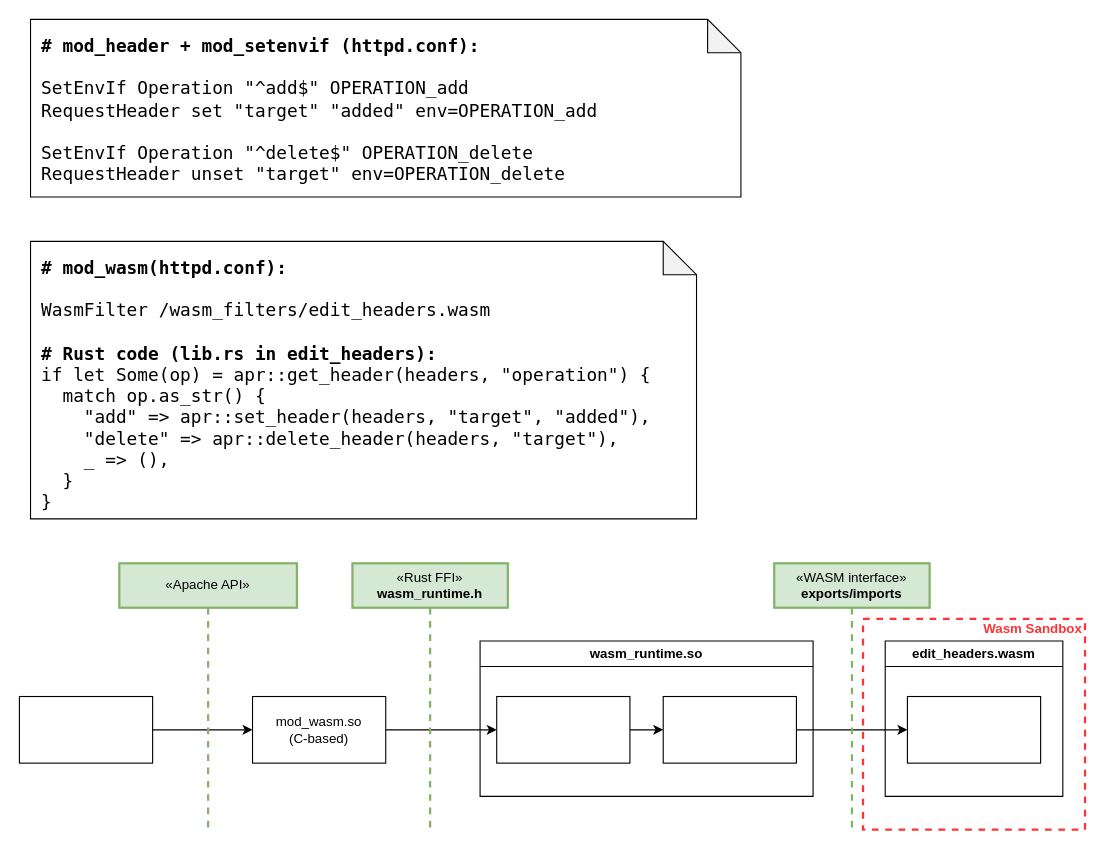
Some shapes in this 1106 by 850 pixel diagram are drawn without their labels. The shapes that lost their labels are listed below. From the top down, each one's centre as x and y in pixels, then its label:
the point at 85,729: Apache
the point at 563,729: Glue Code (Rust-based)
the point at 729,729: wasmtime
the point at 973,729: lib.rs
